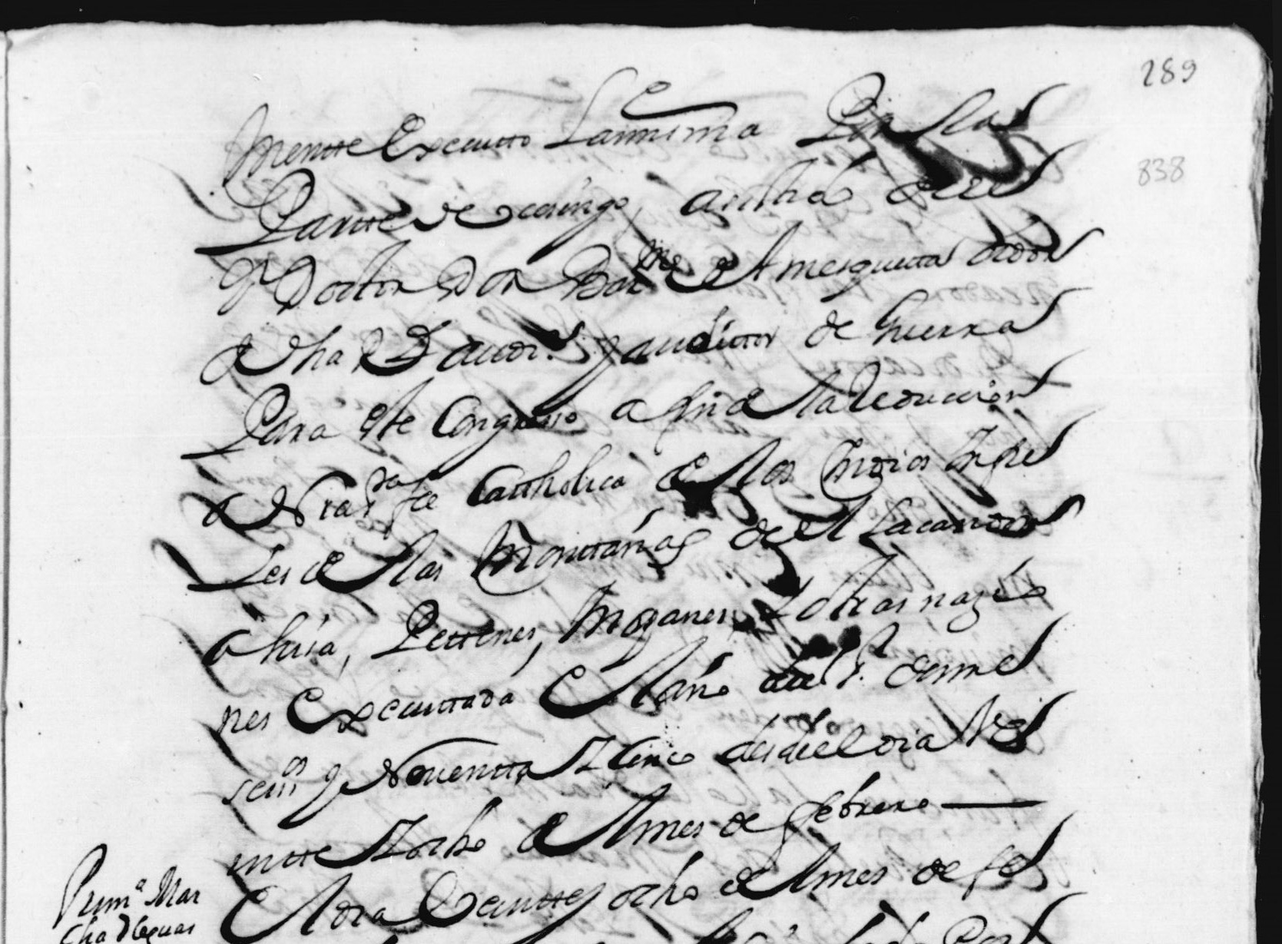lacandon: (859, 494, 1085, 538)
